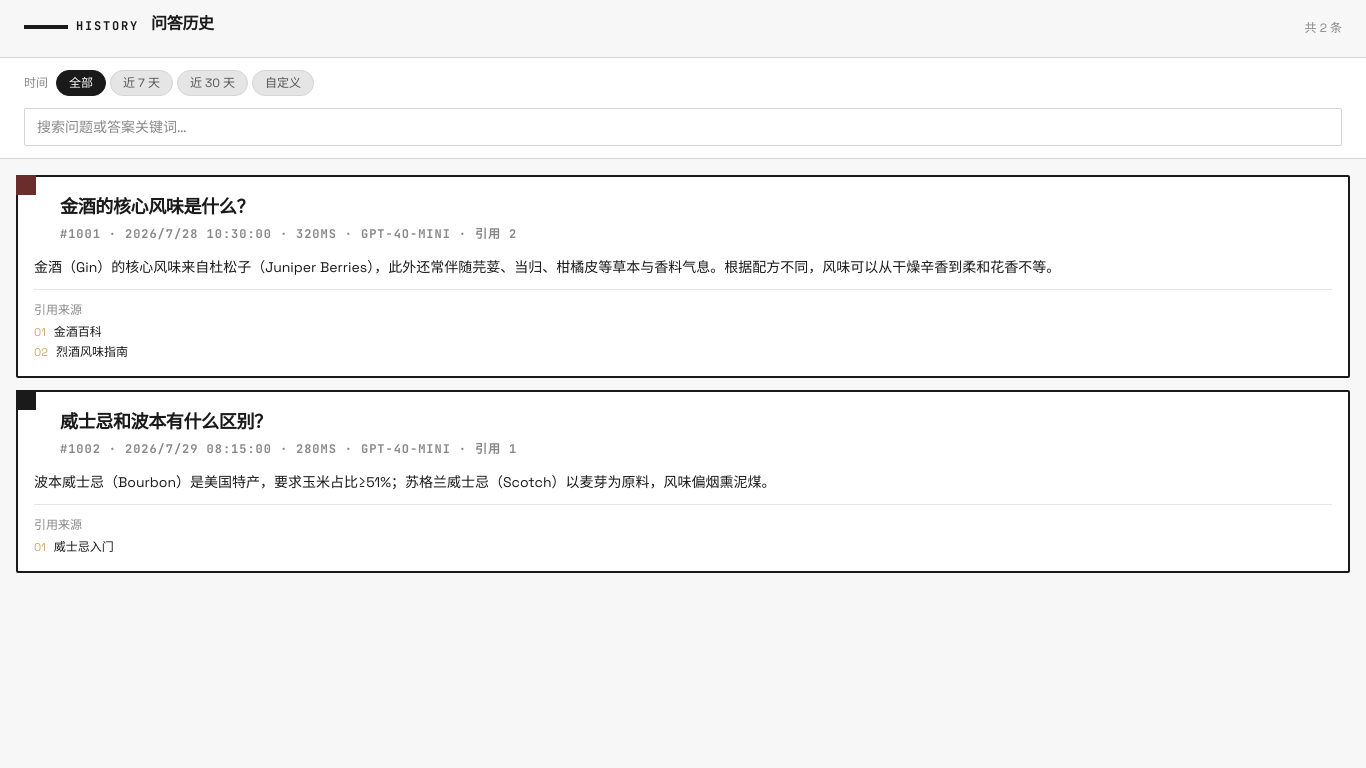
Test: HistoryPanel › 空状态：搜索无匹配时展示更换关键词提示
Expected: the text "金酒的核心风味是什么？" is shown, [60, 195, 254, 218]
Note: 输入一个无匹配的关键词
Step 1. Type "龙舌兰xyz不存在的词" into the search field named "历史搜索框" → (683, 127), box [24, 108, 1342, 146]
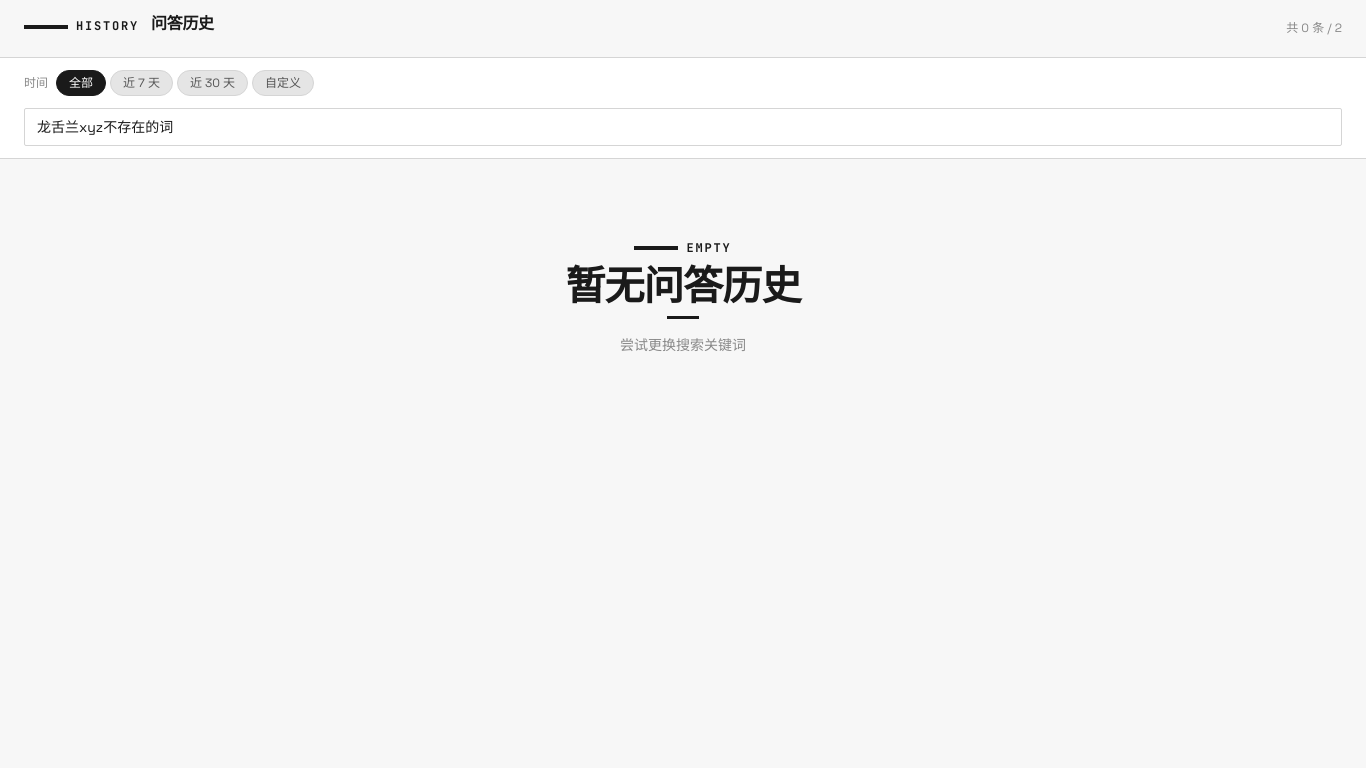
Expected: the heading "暂无问答历史" is shown, [565, 266, 801, 308]
Expected: the text "尝试更换搜索关键词" is shown, [620, 335, 746, 355]
